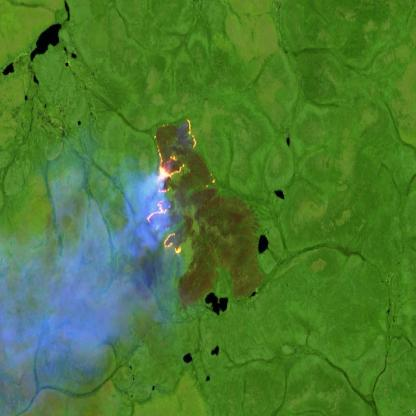fire: (144, 119, 198, 258)
